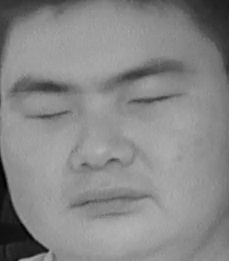blink: (131, 82, 180, 115), (25, 98, 71, 127)
mouth: (71, 176, 151, 228)
